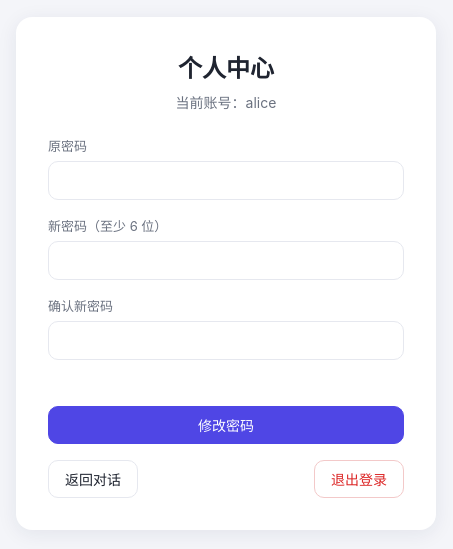
Scenario: ProfilePage › 新密码少于 6 位时本地拦截
This screenshot has width=453, height=549.
Type "old123" into the password field labelled "原密码" at point(226, 180), box 48,160 -> 404,200
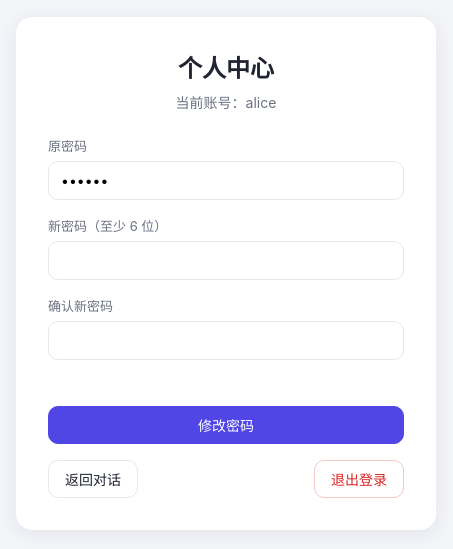
Type "123" into the password field labelled "新密码（至少 6 位）" at point(226, 260), box 48,240 -> 404,280
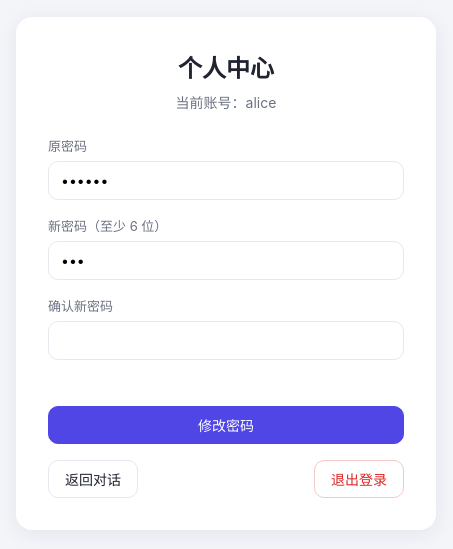
Type "123" into the password field labelled "确认新密码" at point(226, 340), box 48,320 -> 404,360
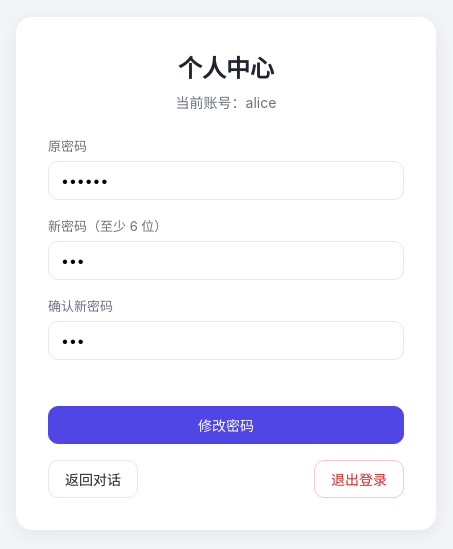
Submit the form, box 48,136 -> 404,444
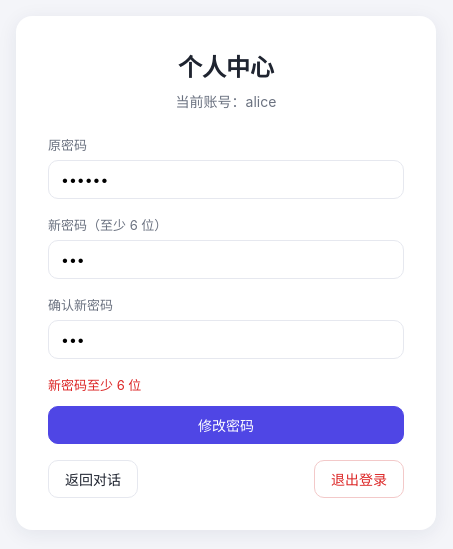
expect the text "新密码至少 6 位" is shown: met, box 48,377 -> 141,393
